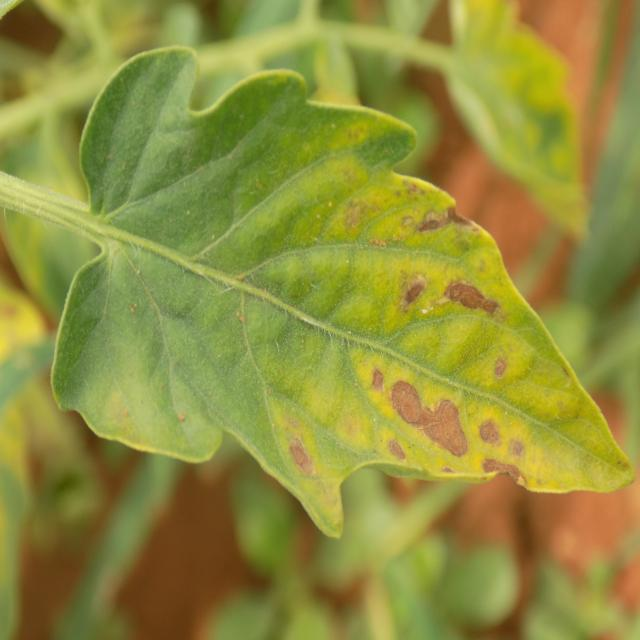tomato_early blight: (51, 37, 640, 543)
